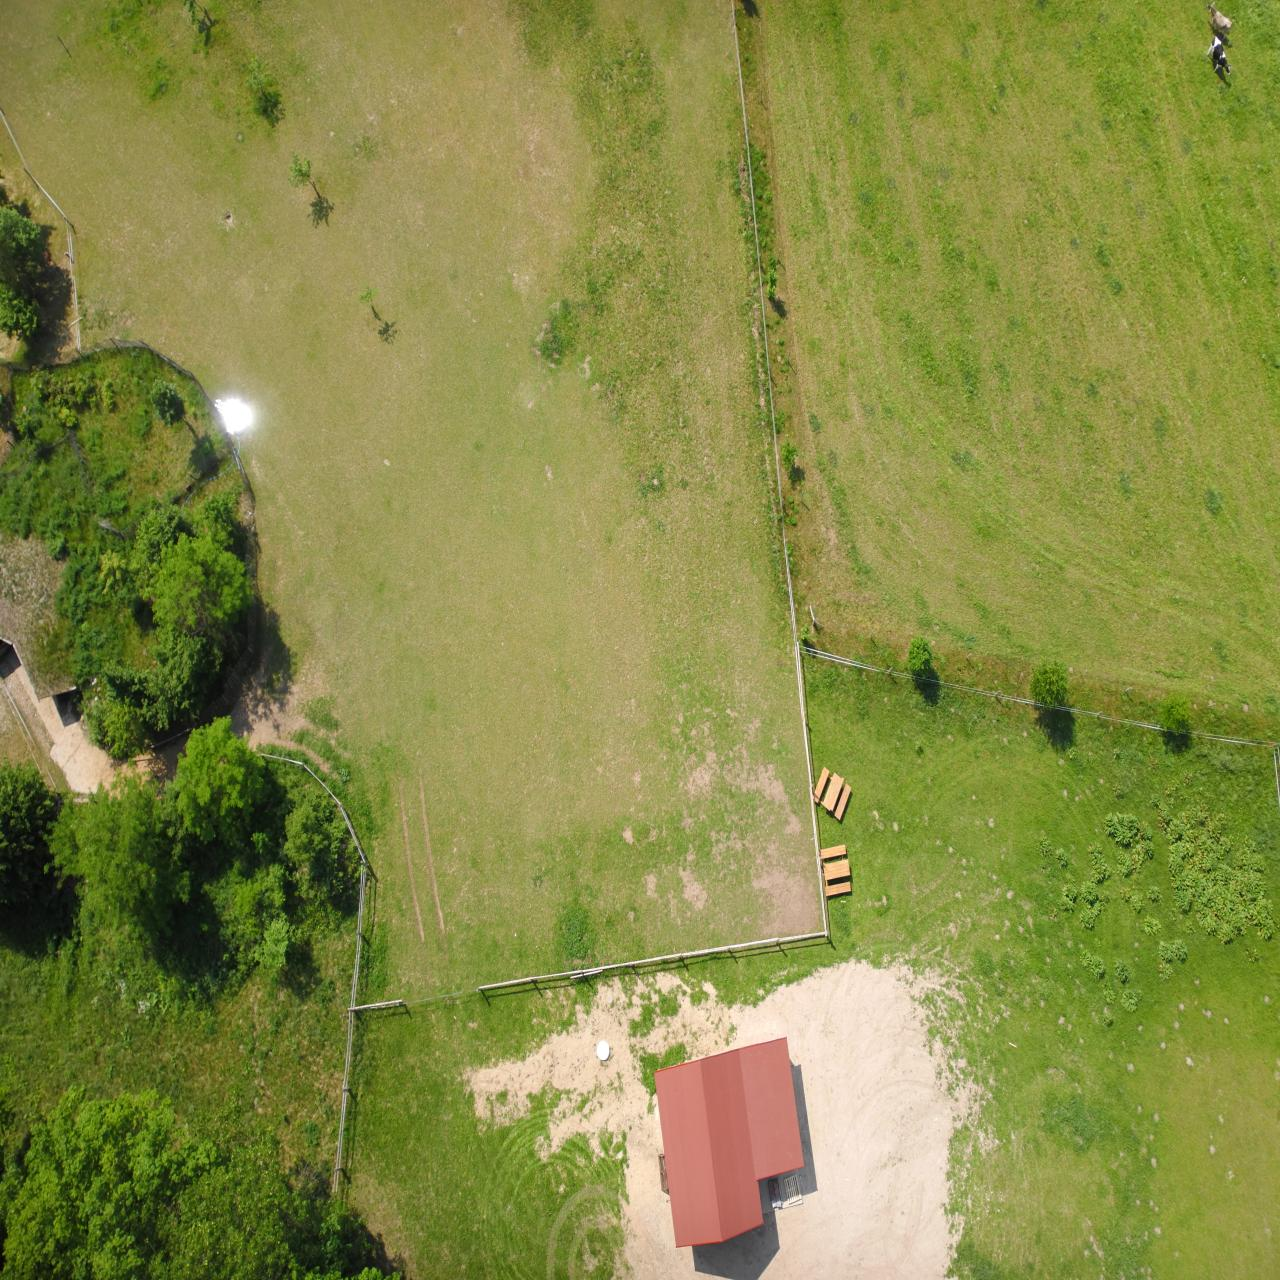cow: (47, 1239, 73, 1279), (48, 1205, 73, 1244)
